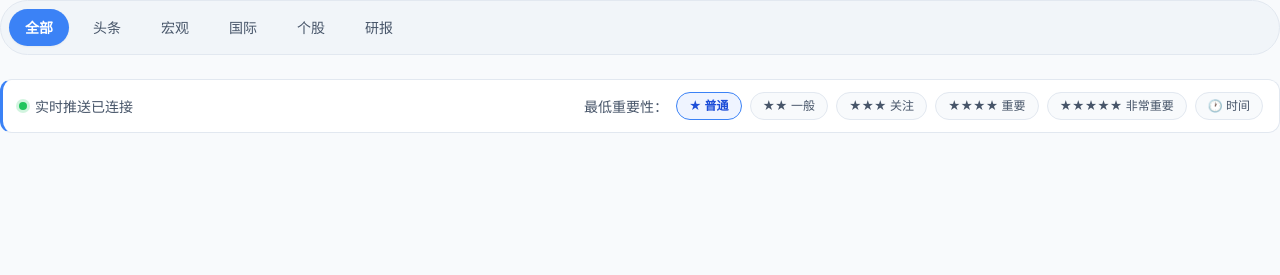
Scenario: NewsView › WS push ignored outside headlines tab (F29)
切到宏观 tab
Click the tab with class "news-tab" showing "宏观". click: (175, 28)
box: [145,9,205,46]
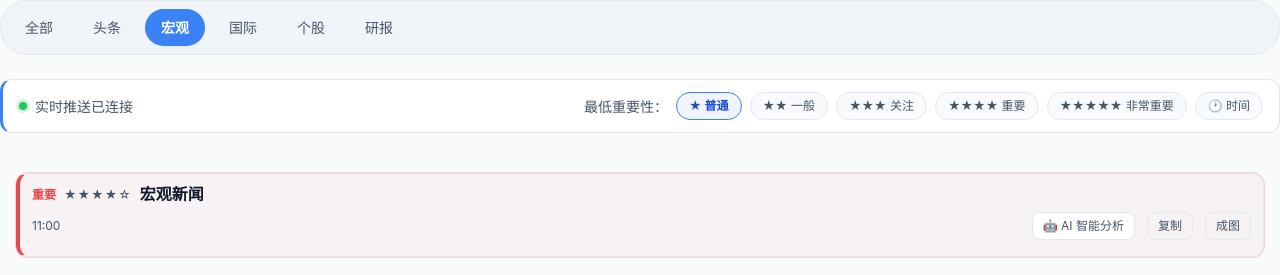
Expected: the number of list items with class "news-item" is 1, [16,173,1264,257]
Expected: the list item with class "news-item" shows "宏观新闻", [140,184,204,204]
